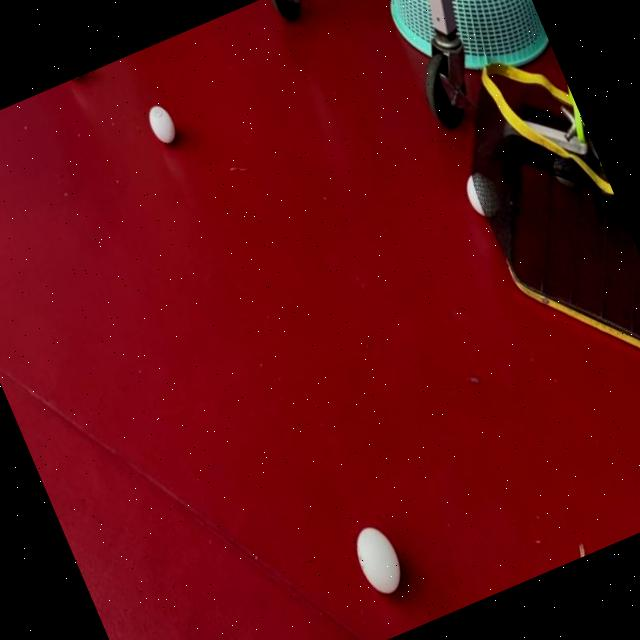ping-pong-ball: (344, 516, 411, 602), (458, 163, 504, 221), (140, 98, 180, 148)
